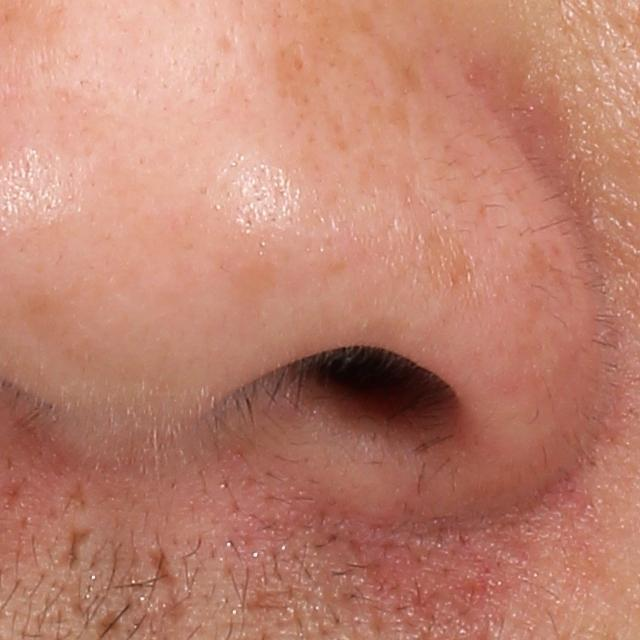atrophic_scar: (52, 525, 100, 572), (150, 542, 181, 595), (63, 479, 89, 514), (97, 610, 124, 638), (216, 28, 238, 56)
